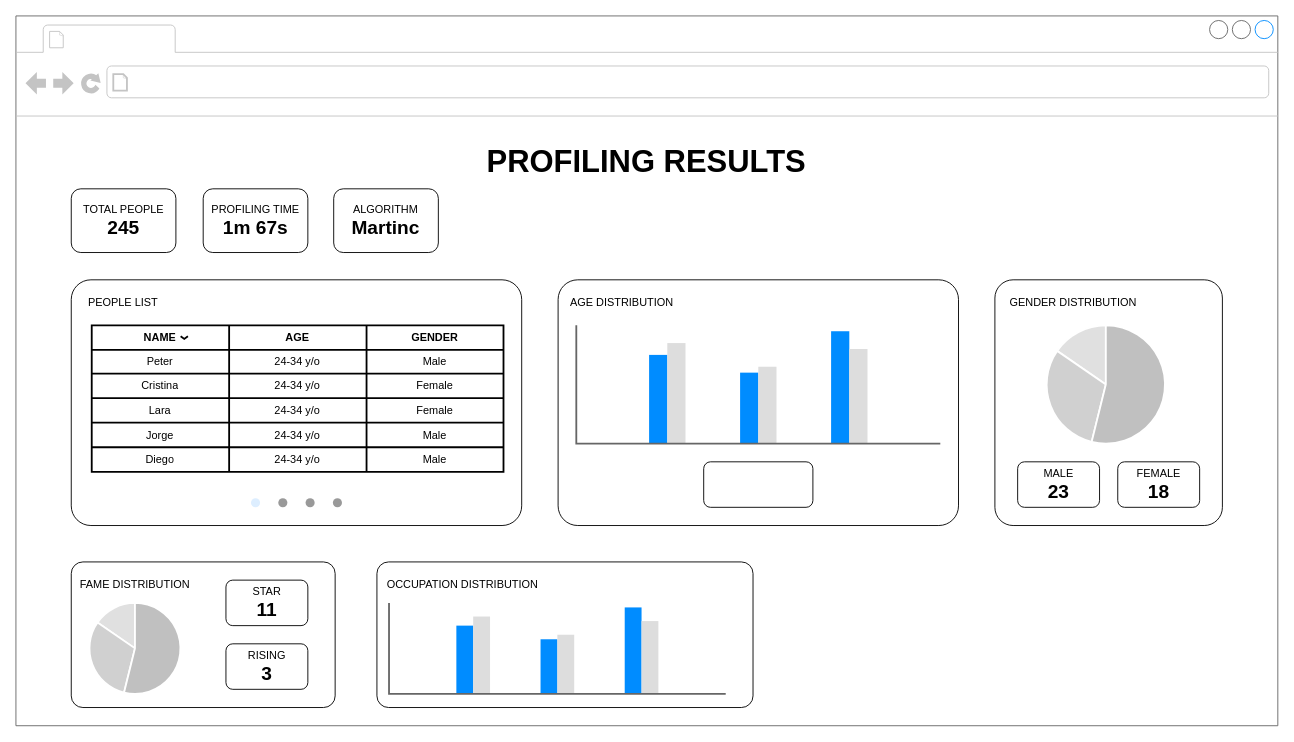
The diagram is 1294 pixels wide and 742 high, and some of its shapes have lost their labels. The shapes that lost their labels are listed below. From the top down, each one's centre as x and y in pixels, then its label:
the point at 120,38: Page 1
the point at 247,82: https://www.draw.io
the point at 758,484: MEDIAN AGE 34-45 y/o
